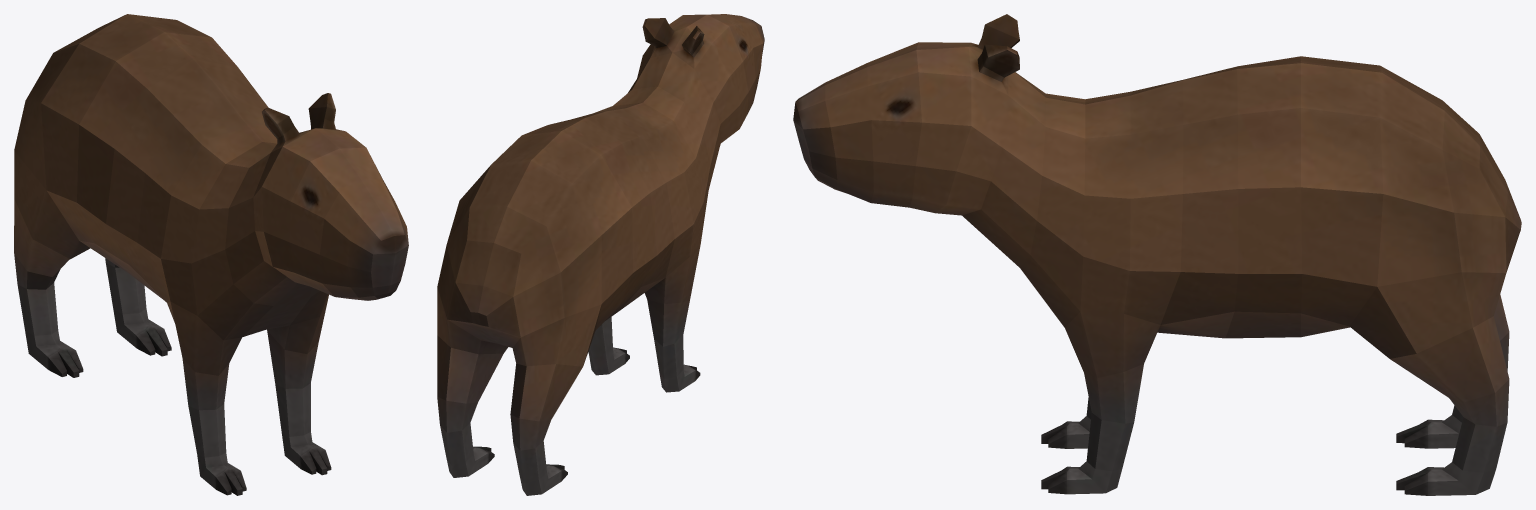
Rendered from kapi.glb.
The picture shows the model from 3 angles, left to right: view 1: azimuth 30°, elevation 25°; view 2: azimuth 150°, elevation 25°; view 3: azimuth 270°, elevation 25°; orthographic projection. The views are drawn at different scales.
Parts seen in each view (by area): view 1: Capybara_mesh; view 2: Capybara_mesh; view 3: Capybara_mesh.
Boxes of the visible parts, x1=… form: Capybara_mesh: x1=14, y1=14, x2=408, y2=495; Capybara_mesh: x1=437, y1=14, x2=764, y2=495; Capybara_mesh: x1=793, y1=14, x2=1521, y2=495.
Size of the model in its own units: 2.16 by 4.72 by 7.16.
Materials: 1 (1 with a texture image).
